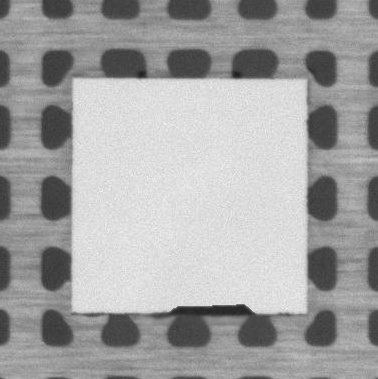DIE_BROKEN: (158, 302, 258, 317)
